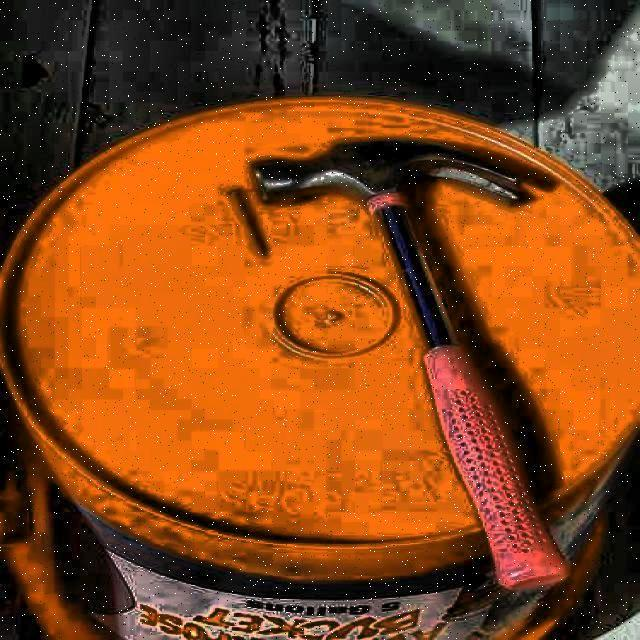hammer: (253, 141, 575, 598)
